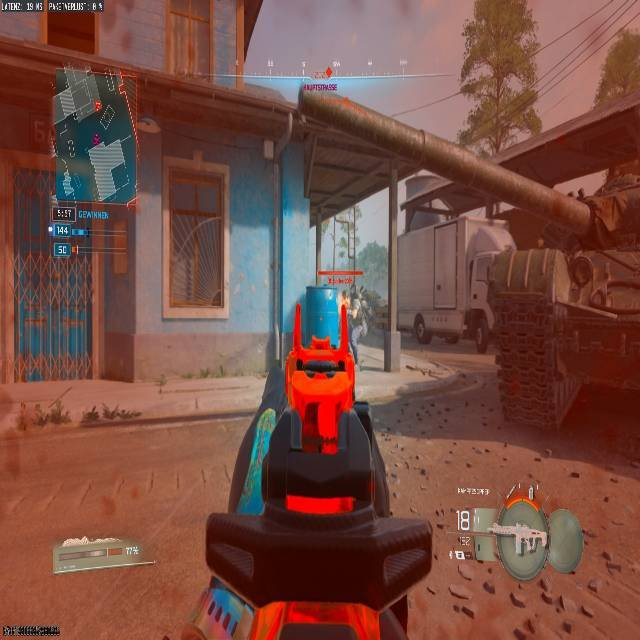player: (341, 286, 371, 358)
